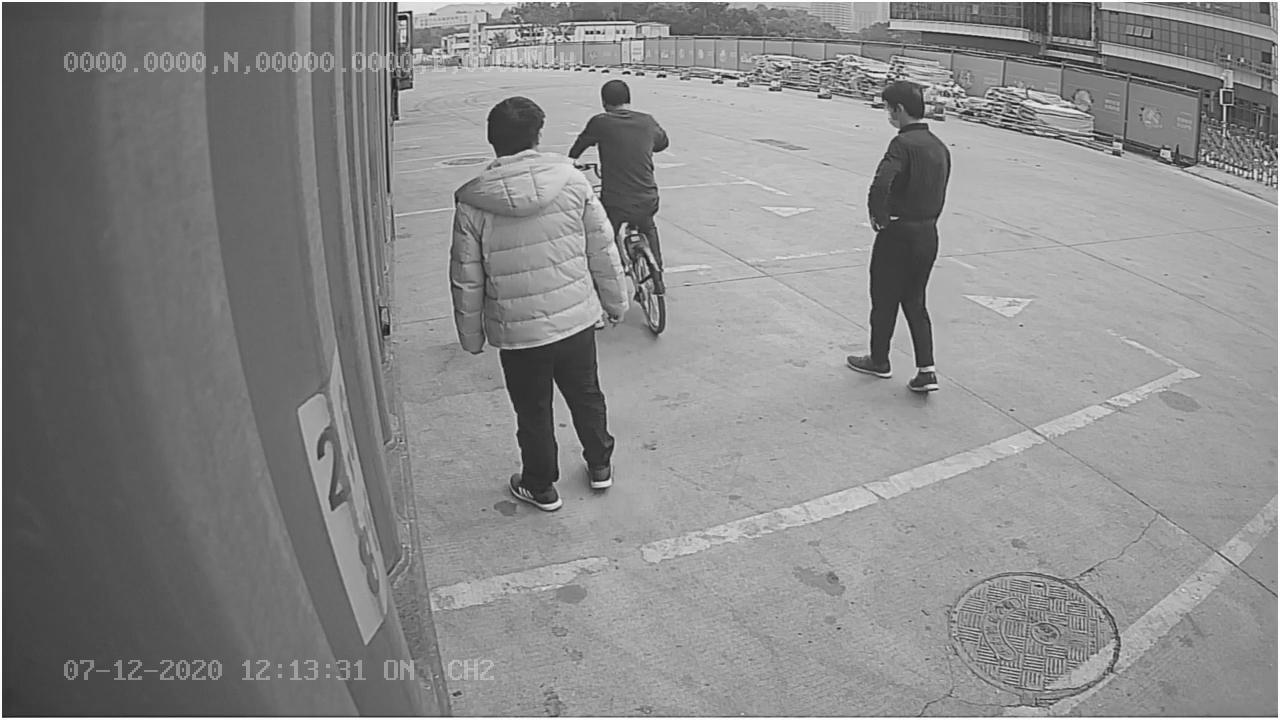person: (842, 84, 955, 396)
